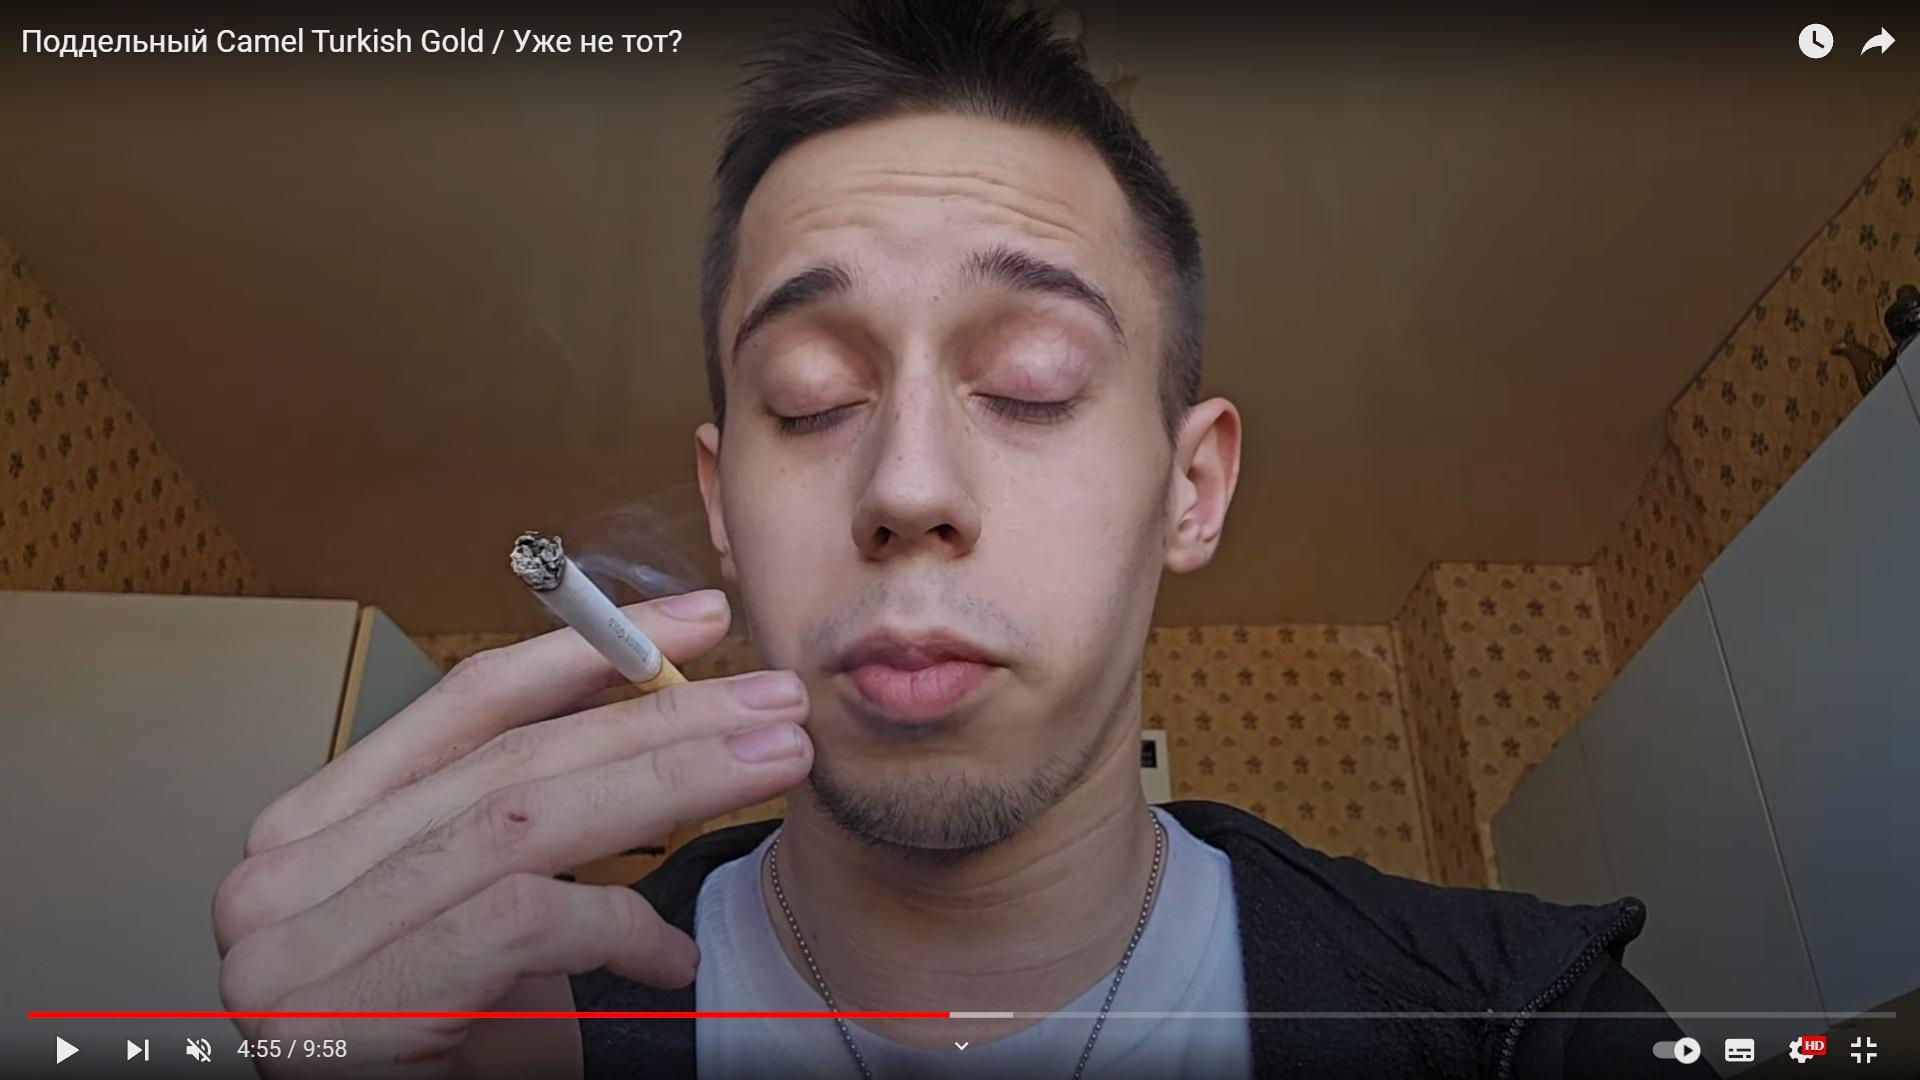cigarette: (510, 533, 686, 694)
